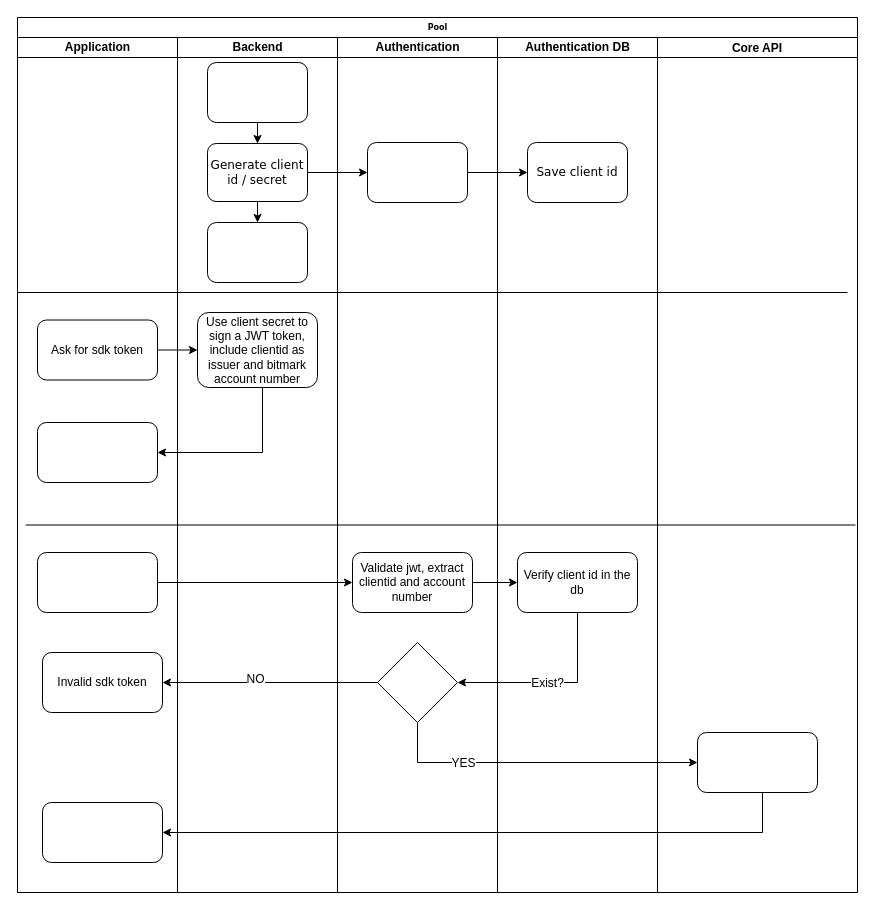
Some shapes in this 875 by 910 pixel diagram are drawn without their labels. The centre of each missing label's shape, as x and y in pixels:
"Ask for a client id / secret" belongs at point 257,92.
"Forward request to core API" belongs at point 757,762.
"Make request to core api" belongs at point 97,582.
"Register & save client id" belongs at point 417,172.
"Result to client" belongs at point 102,832.
"Save client secret in a secret place" belongs at point 257,252.
"Save sdk token" belongs at point 97,452.
